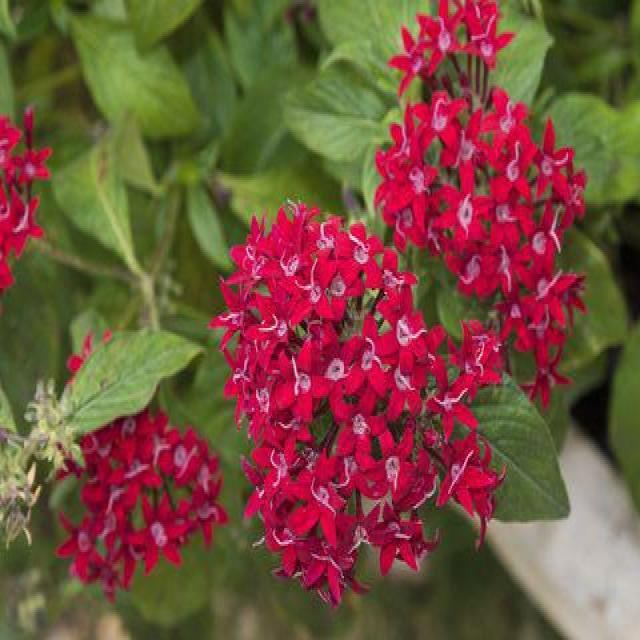other: (218, 217, 516, 611), (382, 2, 598, 375), (37, 400, 233, 563), (0, 95, 36, 293)
